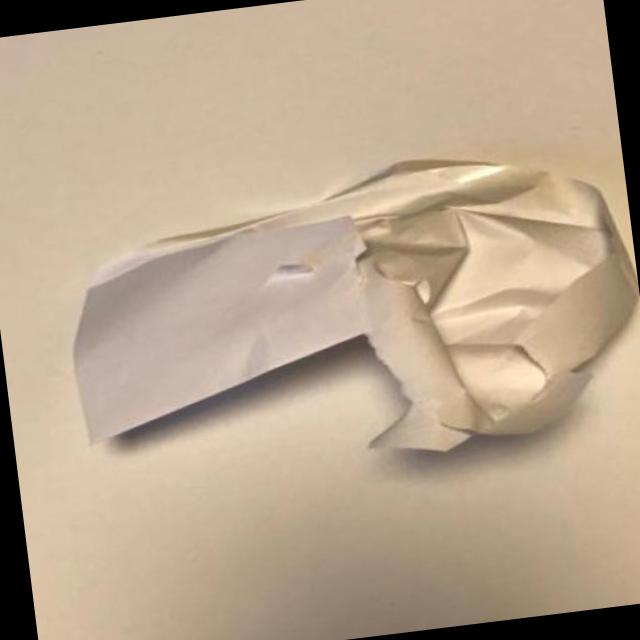cardboard paper: (76, 160, 639, 448)
